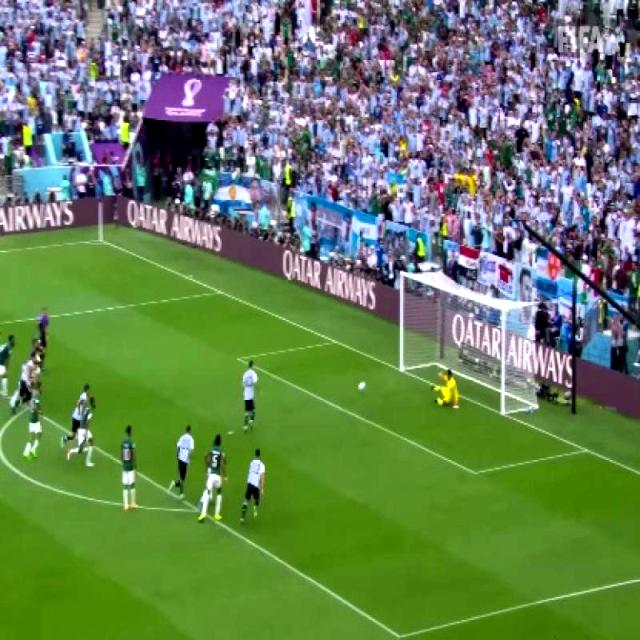bigarea_bottom_inner: (389, 621, 407, 640)
bigarea_top_outter: (214, 284, 224, 298)
bottom_arc_area_intersection: (190, 502, 200, 516)
corner: (92, 235, 104, 245)
smallarea_bottom_inner: (466, 459, 484, 484)
smallarea_bottom_outter: (578, 438, 592, 458)
smallarea_top_inner: (232, 351, 243, 366)
smallarea_top_outter: (328, 334, 338, 348)
top_arc_area_intersection: (16, 396, 39, 420)
